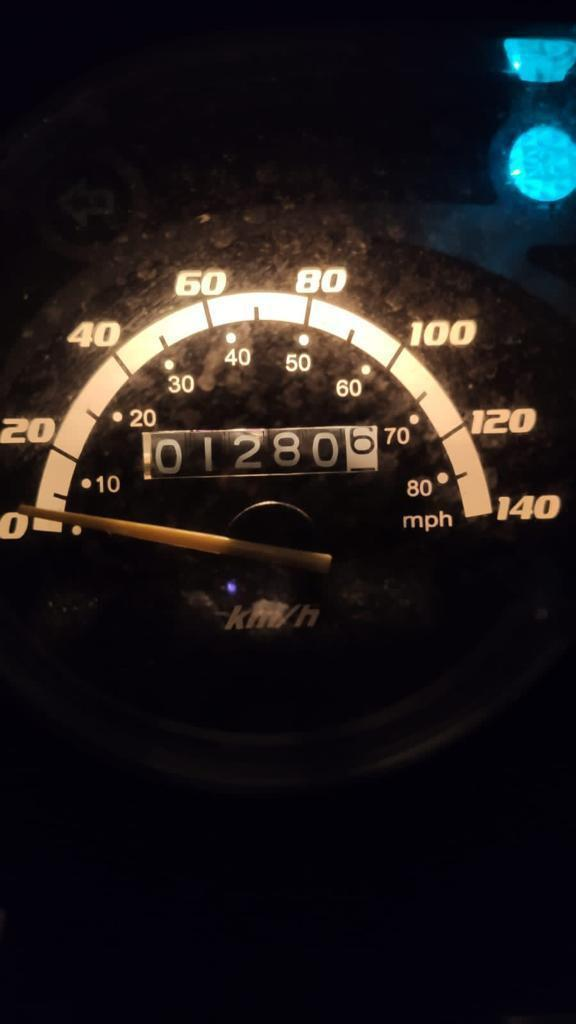0: (151, 435, 184, 476), (309, 430, 341, 469)
1: (197, 432, 218, 475)
2: (230, 430, 263, 472)
6: (347, 423, 378, 459)
8: (271, 430, 302, 470)
odometer: (135, 422, 384, 482)
